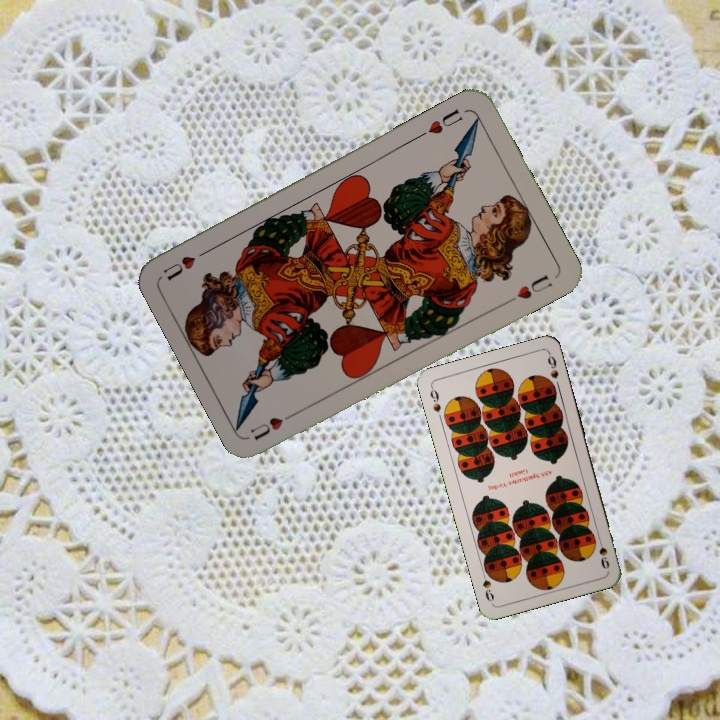HU: (246, 406, 302, 443), (415, 104, 466, 140)
S9: (594, 532, 612, 572), (426, 382, 444, 415)
